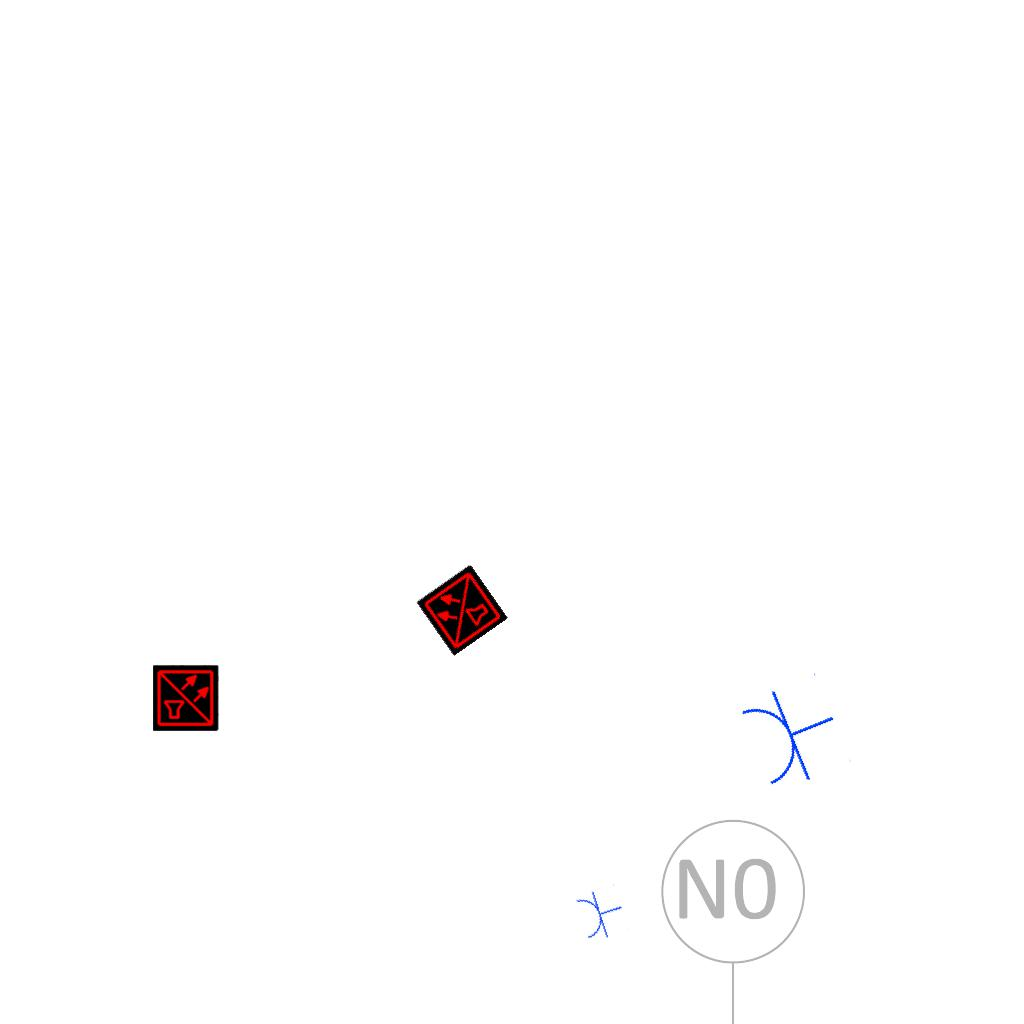OKW_Multisensormelder_(Kombination_optischer_Rauch-Kahlenmonoxid_Waerme-Melder): (416, 564, 508, 656), (153, 665, 219, 731)
Schukosteckdose_einfach: (733, 670, 853, 797), (572, 883, 630, 944)
